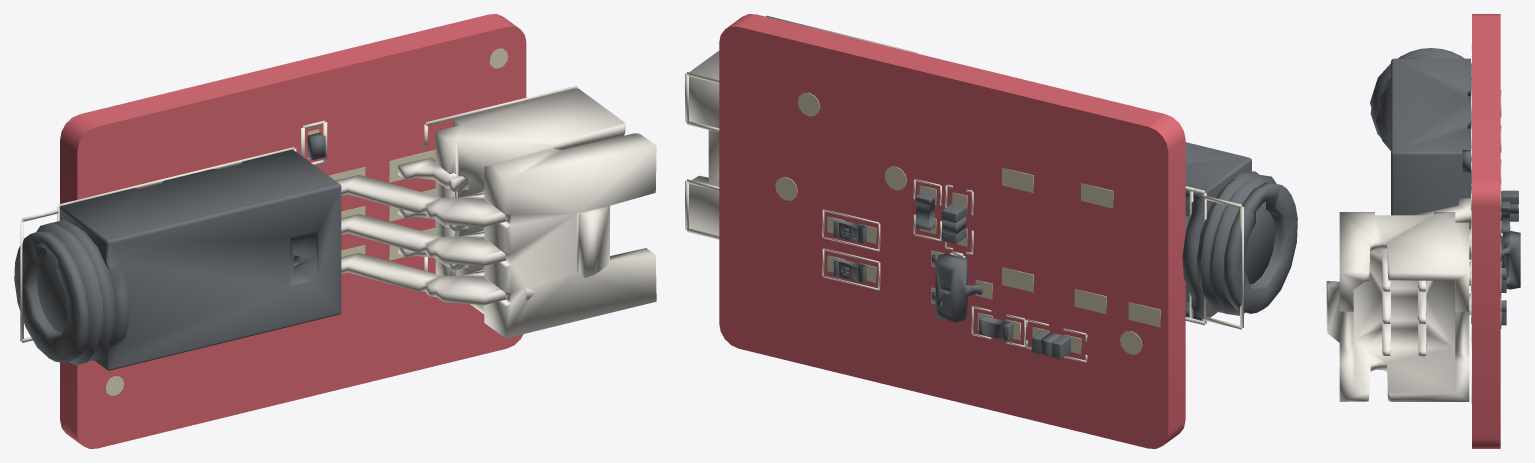
The model's file is pcb-jack-line-in.glb.
3 renders of one model, left to right at view 1: azimuth 30°, elevation 25°; view 2: azimuth 150°, elevation 25°; view 3: azimuth 270°, elevation 25°, orthographic. The views are drawn at different scales.
Parts seen in each view (by area): view 1: pcb, body, plastic, silk, pads; view 2: pcb, body, pads, silk, plastic; view 3: plastic, body, pcb, pads, silk.
Boxes of the visible parts, <box> form: pcb: <box>60,14,526,448</box>; body: <box>14,132,341,370</box>; plastic: <box>335,88,656,338</box>; silk: <box>20,85,578,342</box>; pads: <box>105,48,508,395</box>; pcb: <box>719,14,1185,448</box>; body: <box>833,142,1297,359</box>; pads: <box>775,92,1160,354</box>; silk: <box>685,72,1243,362</box>; plastic: <box>689,15,917,235</box>; plastic: <box>1326,198,1471,401</box>; body: <box>1370,48,1520,325</box>; pcb: <box>1472,14,1500,448</box>; pads: <box>1471,90,1501,328</box>; silk: <box>1471,45,1471,403</box>.
Bounding box in the file's own units: 29.98 × 16.5 × 10.91.
